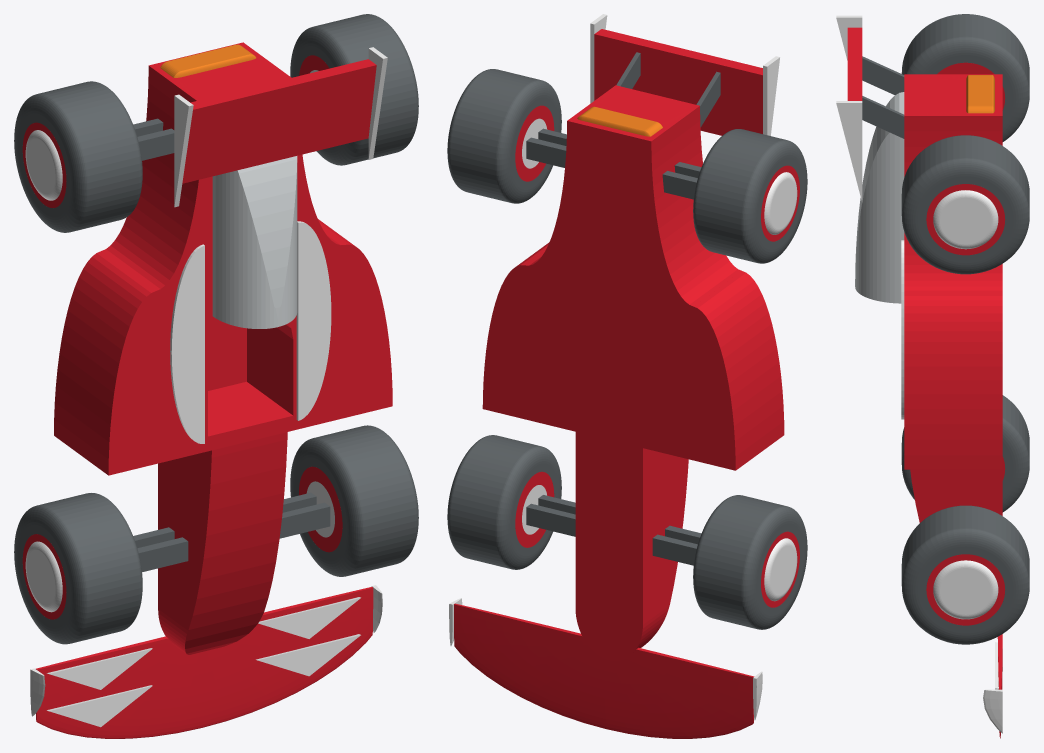
File: tinker.obj
3 renders of one model, left to right at view 1: azimuth 30°, elevation 25°; view 2: azimuth 150°, elevation 25°; view 3: azimuth 270°, elevation 25°, orthographic. The views are drawn at different scales.
Parts seen in each view (by area): view 1: group_0_15277357, group_0_6383466, group_0_16448250, group_0_14541540, group_0_16089887; view 2: group_0_15277357, group_0_6383466, group_0_16448250, group_0_16089887; view 3: group_0_15277357, group_0_6383466, group_0_16448250, group_0_14541540, group_0_16089887.
Part boxes in pixels (<box>): group_0_15277357: <box>22,42,392,738</box>; group_0_6383466: <box>14,14,418,644</box>; group_0_16448250: <box>25,47,387,727</box>; group_0_14541540: <box>212,156,297,328</box>; group_0_16089887: <box>160,44,256,77</box>; group_0_15277357: <box>454,29,799,738</box>; group_0_6383466: <box>447,52,807,629</box>; group_0_16448250: <box>449,14,797,720</box>; group_0_16089887: <box>577,106,662,136</box>; group_0_15277357: <box>847,27,1005,738</box>; group_0_6383466: <box>862,14,1029,644</box>; group_0_16448250: <box>836,15,1002,733</box>; group_0_14541540: <box>855,92,904,303</box>; group_0_16089887: <box>966,75,994,113</box>.
Size of the model in its own units: 75 by 144 by 39.33.
